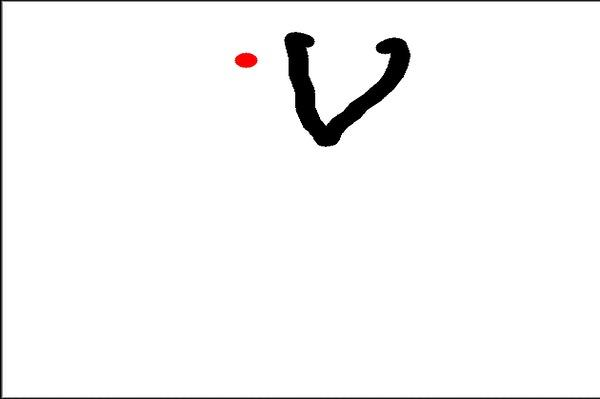V: (280, 20, 416, 154)
